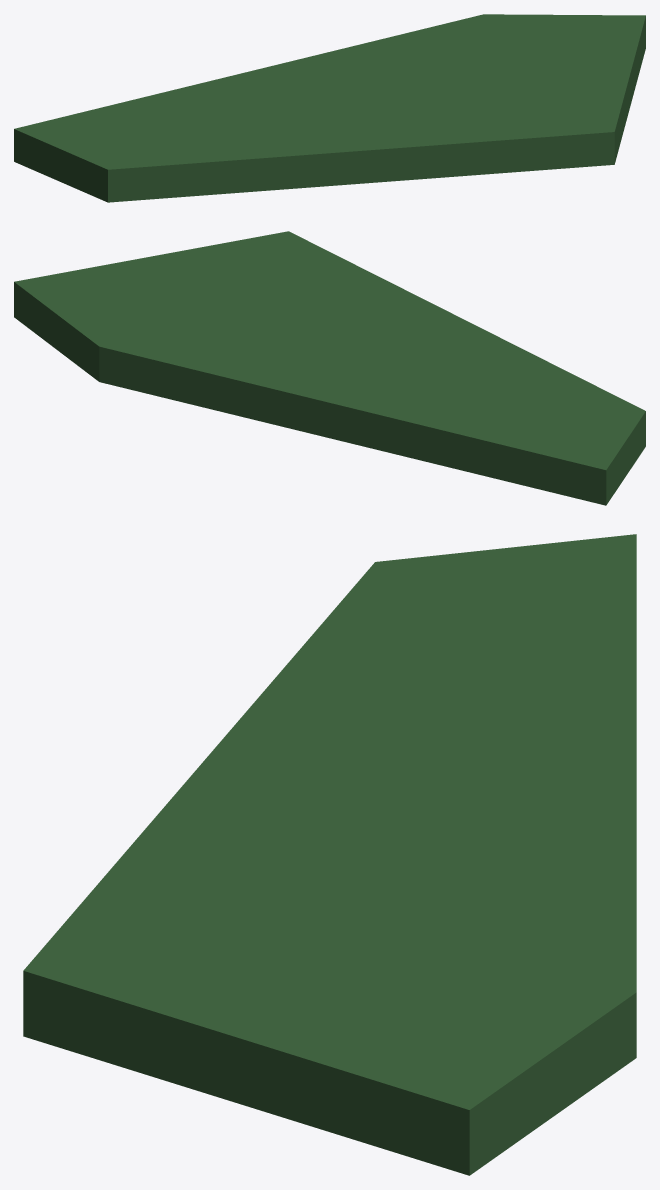
Rendered from x_proval_00_119_1_rmstrd.fbx.
The picture shows the model from 3 angles, top to bottom: view 1: azimuth 30°, elevation 25°; view 2: azimuth 150°, elevation 25°; view 3: azimuth 270°, elevation 25°; orthographic projection. The views are drawn at different scales.
Visible parts, largest first — view 1: x_proval_00_119_1_rmstrd1; view 2: x_proval_00_119_1_rmstrd1; view 3: x_proval_00_119_1_rmstrd1.
Part boxes in pixels (bbox=[...]): x_proval_00_119_1_rmstrd1: bbox=[14, 14, 645, 202]; x_proval_00_119_1_rmstrd1: bbox=[14, 231, 645, 505]; x_proval_00_119_1_rmstrd1: bbox=[23, 534, 636, 1175].
Bounding box in the file's own units: 3.76 × 0.2 × 1.69.
